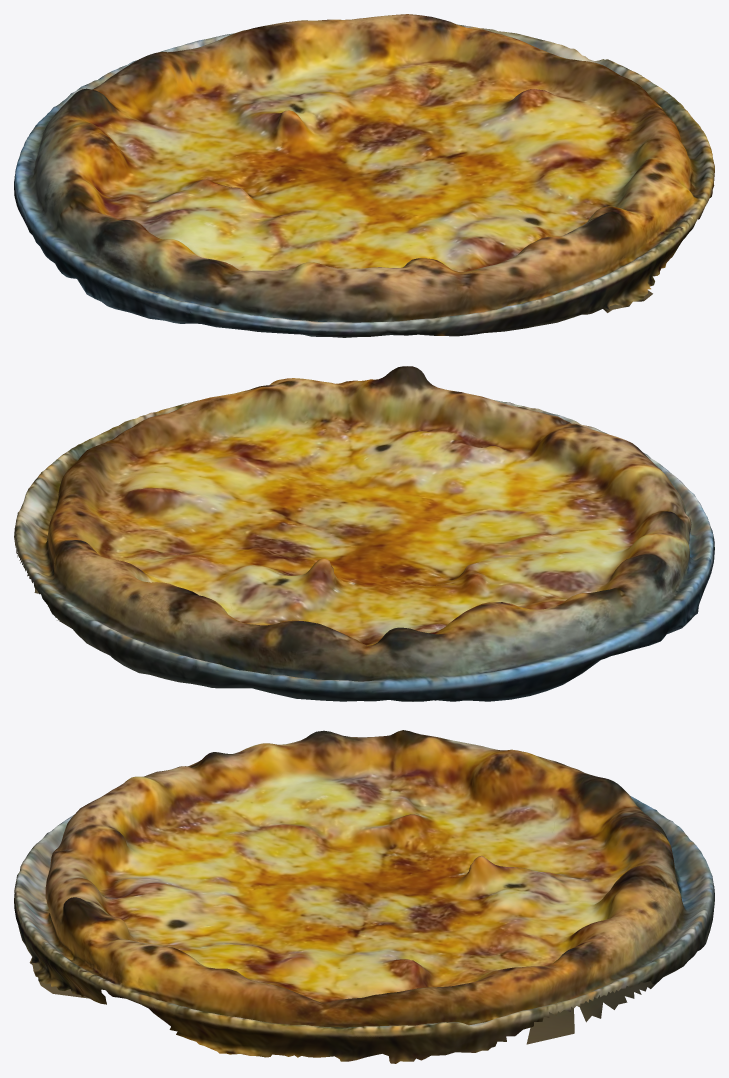
File: toscana.glb
3 views of the same model, one above another, from view 1: azimuth 30°, elevation 25°; view 2: azimuth 150°, elevation 25°; view 3: azimuth 270°, elevation 25° (orthographic).
Visible parts, largest first — view 1: ObjectCapture; view 2: ObjectCapture; view 3: ObjectCapture.
Boxes of the visible parts, x1,y1,x2,y2 form: ObjectCapture: (14,14,714,337); ObjectCapture: (14,366,714,701); ObjectCapture: (14,730,714,1063).
Size of the model in its own units: 0.6572 by 0.086 by 0.6586.
1 material, 1 textured.
